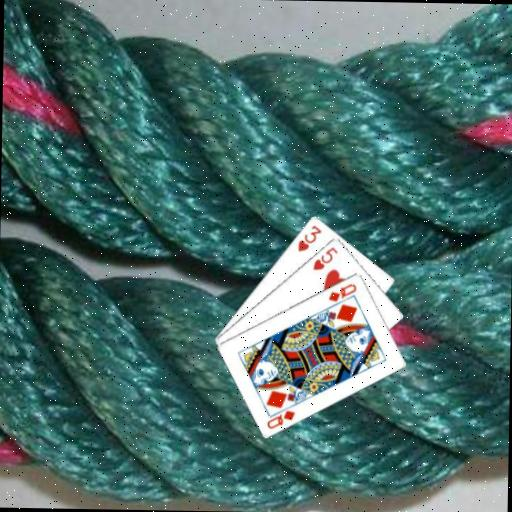3H: (295, 221, 324, 253)
5H: (310, 244, 339, 272)
QD: (264, 407, 297, 431), (326, 280, 358, 304)
